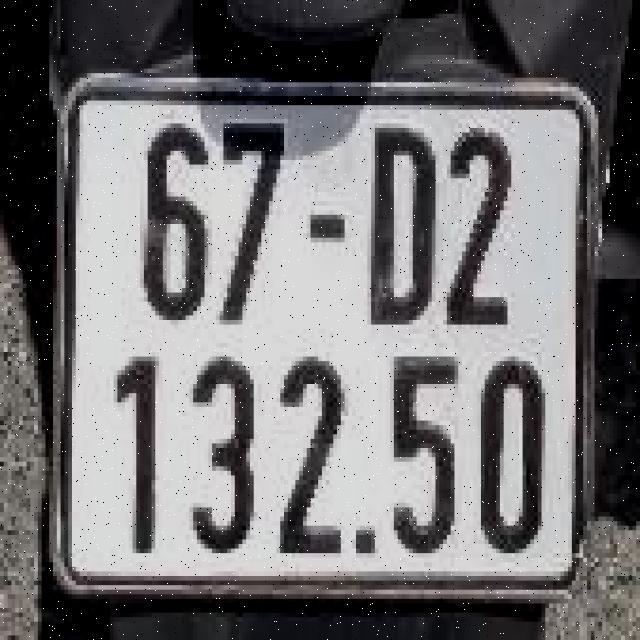0: (471, 338, 555, 558)
1: (108, 343, 165, 576)
2: (449, 107, 528, 336), (271, 352, 350, 567)
3: (186, 348, 261, 562)
5: (382, 332, 473, 564)
6: (130, 110, 222, 333)
7: (212, 105, 292, 329)
D: (356, 100, 435, 334)
